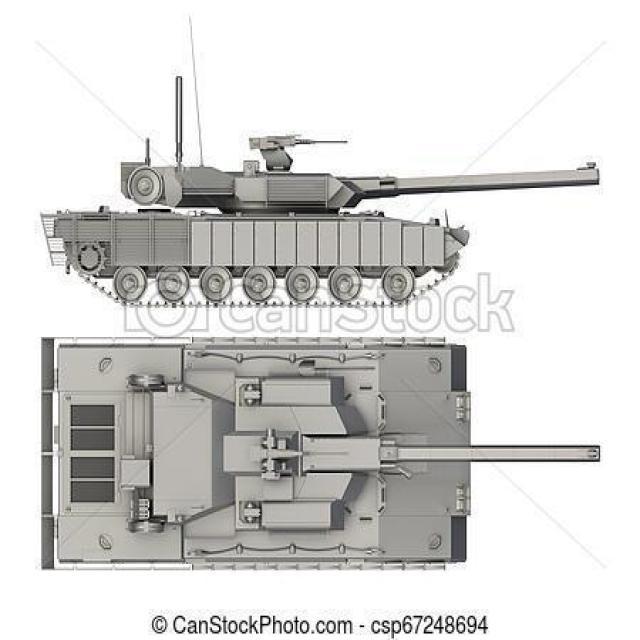Tanks: (28, 336, 611, 584), (37, 74, 610, 308)
